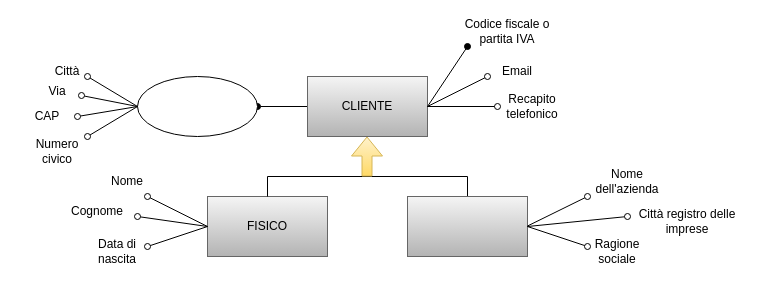
This 774x283 diagram has some shape labels left out. The box of each missing label's shape, as (x1, y1, x2, y2) in pixels:
GIURIDICO: (406, 196, 528, 256)
Indirizzo: (136, 76, 258, 136)
